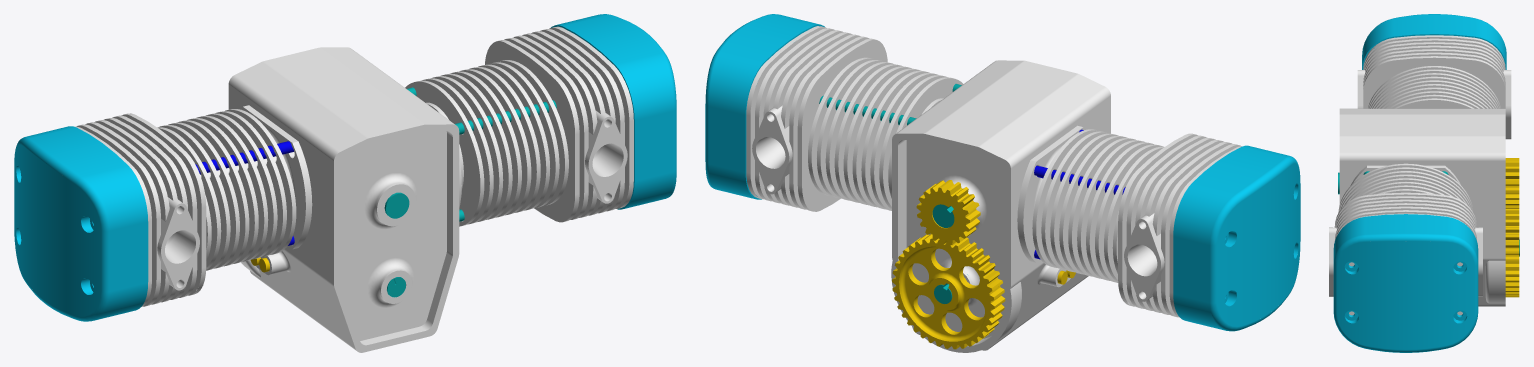
Rendered from 2CylinderEngine.gltf.
3 views of the same model, side by side, from view 1: azimuth 30°, elevation 25°; view 2: azimuth 150°, elevation 25°; view 3: azimuth 270°, elevation 25° (orthographic). The views are drawn at different scales.
Parts seen in each view (by area): view 1: body_1, body_12, body_2, body_3, body_4, body_8, body_5, body, body_6, body_22; view 2: body_1, body_12, body_3, body_4, body_2, body_8, body_5, body_21, body_23; view 3: body_5, body_1, body_8, body_3, body_4, body_2, body_12, body_21, body_23.
Boxes of the visible parts, x1=… form: body_1: x1=228, y1=47, x2=459, y2=352; body_12: x1=14, y1=126, x2=148, y2=321; body_2: x1=405, y1=60, x2=568, y2=226; body_3: x1=157, y1=105, x2=312, y2=270; body_4: x1=485, y1=26, x2=633, y2=222; body_8: x1=75, y1=113, x2=206, y2=306; body_5: x1=551, y1=14, x2=676, y2=209; body: x1=195, y1=141, x2=293, y2=174; body_6: x1=407, y1=87, x2=556, y2=221; body_22: x1=384, y1=192, x2=409, y2=218; body_1: x1=891, y1=60, x2=1110, y2=352; body_12: x1=1173, y1=145, x2=1300, y2=331; body_3: x1=1017, y1=125, x2=1164, y2=282; body_4: x1=746, y1=26, x2=887, y2=211; body_2: x1=808, y1=57, x2=963, y2=210; body_8: x1=1118, y1=133, x2=1242, y2=317; body_5: x1=705, y1=14, x2=824, y2=199; body_21: x1=892, y1=234, x2=1005, y2=349; body_23: x1=916, y1=180, x2=980, y2=245; body_5: x1=1333, y1=214, x2=1478, y2=352; body_1: x1=1339, y1=108, x2=1505, y2=306; body_8: x1=1357, y1=35, x2=1511, y2=139; body_3: x1=1368, y1=66, x2=1500, y2=108; body_4: x1=1329, y1=192, x2=1482, y2=315; body_2: x1=1338, y1=163, x2=1473, y2=212; body_12: x1=1362, y1=14, x2=1506, y2=69; body_21: x1=1505, y1=209, x2=1519, y2=297; body_23: x1=1505, y1=158, x2=1519, y2=208.
Size of the model in its own units: 743 by 273 by 268.
